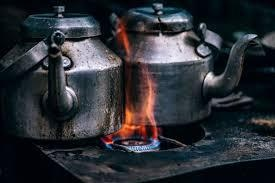fire: (103, 18, 161, 147)
